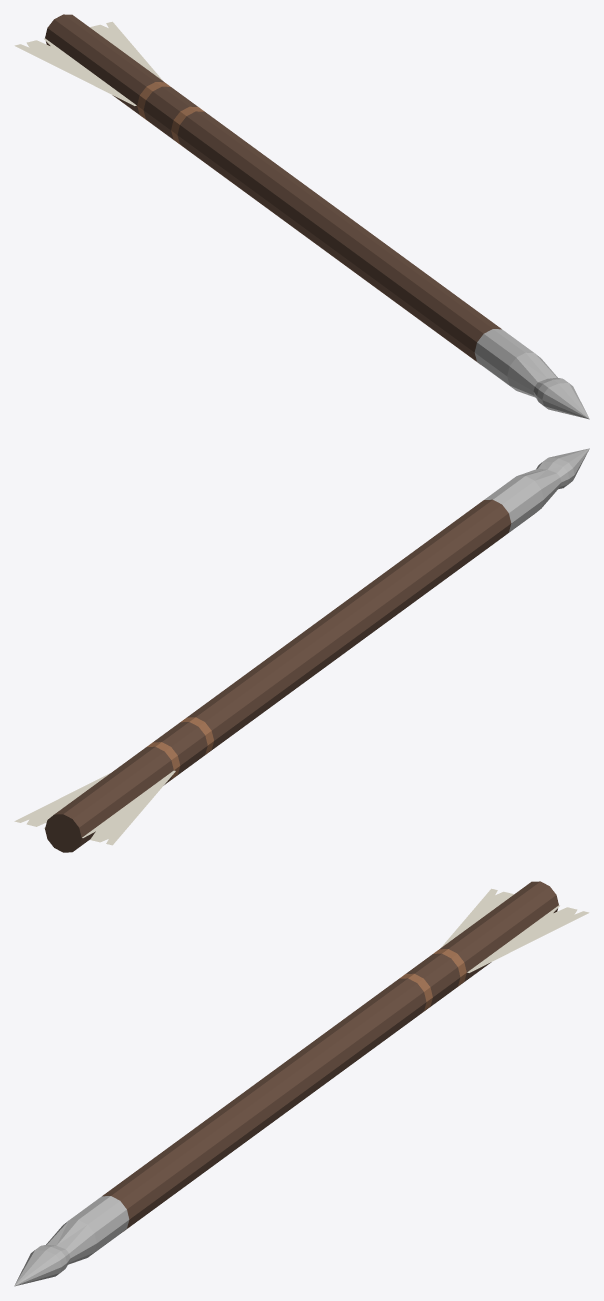
The model's file is Bolt.fbx.
3 views of the same model, one above another, from view 1: azimuth 30°, elevation 25°; view 2: azimuth 150°, elevation 25°; view 3: azimuth 330°, elevation 25° (orthographic).
Parts seen in each view (by area): view 1: Bolt; view 2: Bolt; view 3: Bolt.
Boxes of the visible parts, x1,y1,x2,y2 form: Bolt: (14,14,589,419); Bolt: (14,448,589,852); Bolt: (14,881,589,1286).
Bounding box in the file's own units: 0.044 × 0.0164 × 0.4071.
